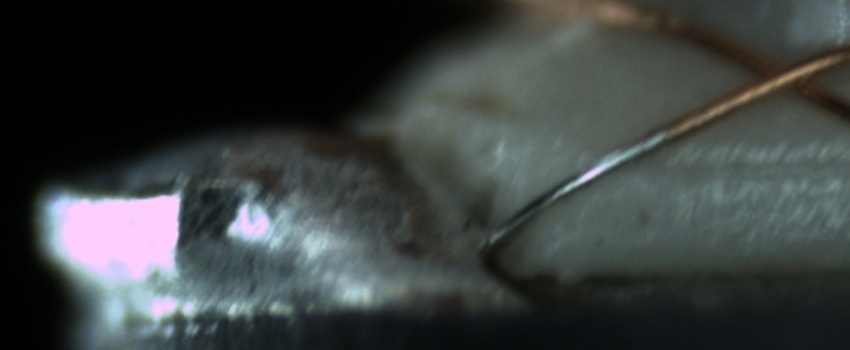CL: (728, 42, 835, 107)
DL: (643, 130, 849, 194)
TS: (486, 128, 669, 245)
TTCW: (484, 103, 728, 252)
